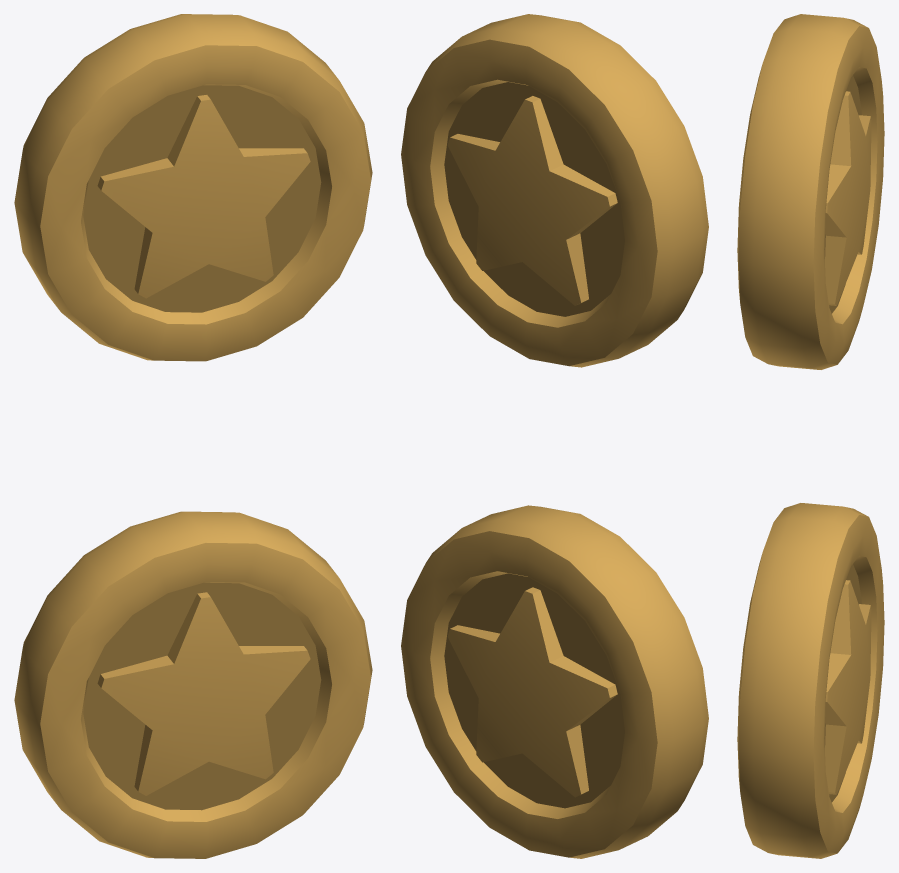
File: Coin.001.fbx
The picture shows the model from 3 angles, left to right: view 1: azimuth 30°, elevation 25°; view 2: azimuth 150°, elevation 25°; view 3: azimuth 270°, elevation 25°; orthographic projection.
Visible parts, largest first — view 1: Coin.001; view 2: Coin.001; view 3: Coin.001.
Boxes of the visible parts, x1,y1,x2,y2 form: Coin.001: [14, 14, 372, 858]; Coin.001: [401, 14, 708, 858]; Coin.001: [737, 14, 884, 858].
Bounding box in the file's own units: 132 × 331 × 54.32.
